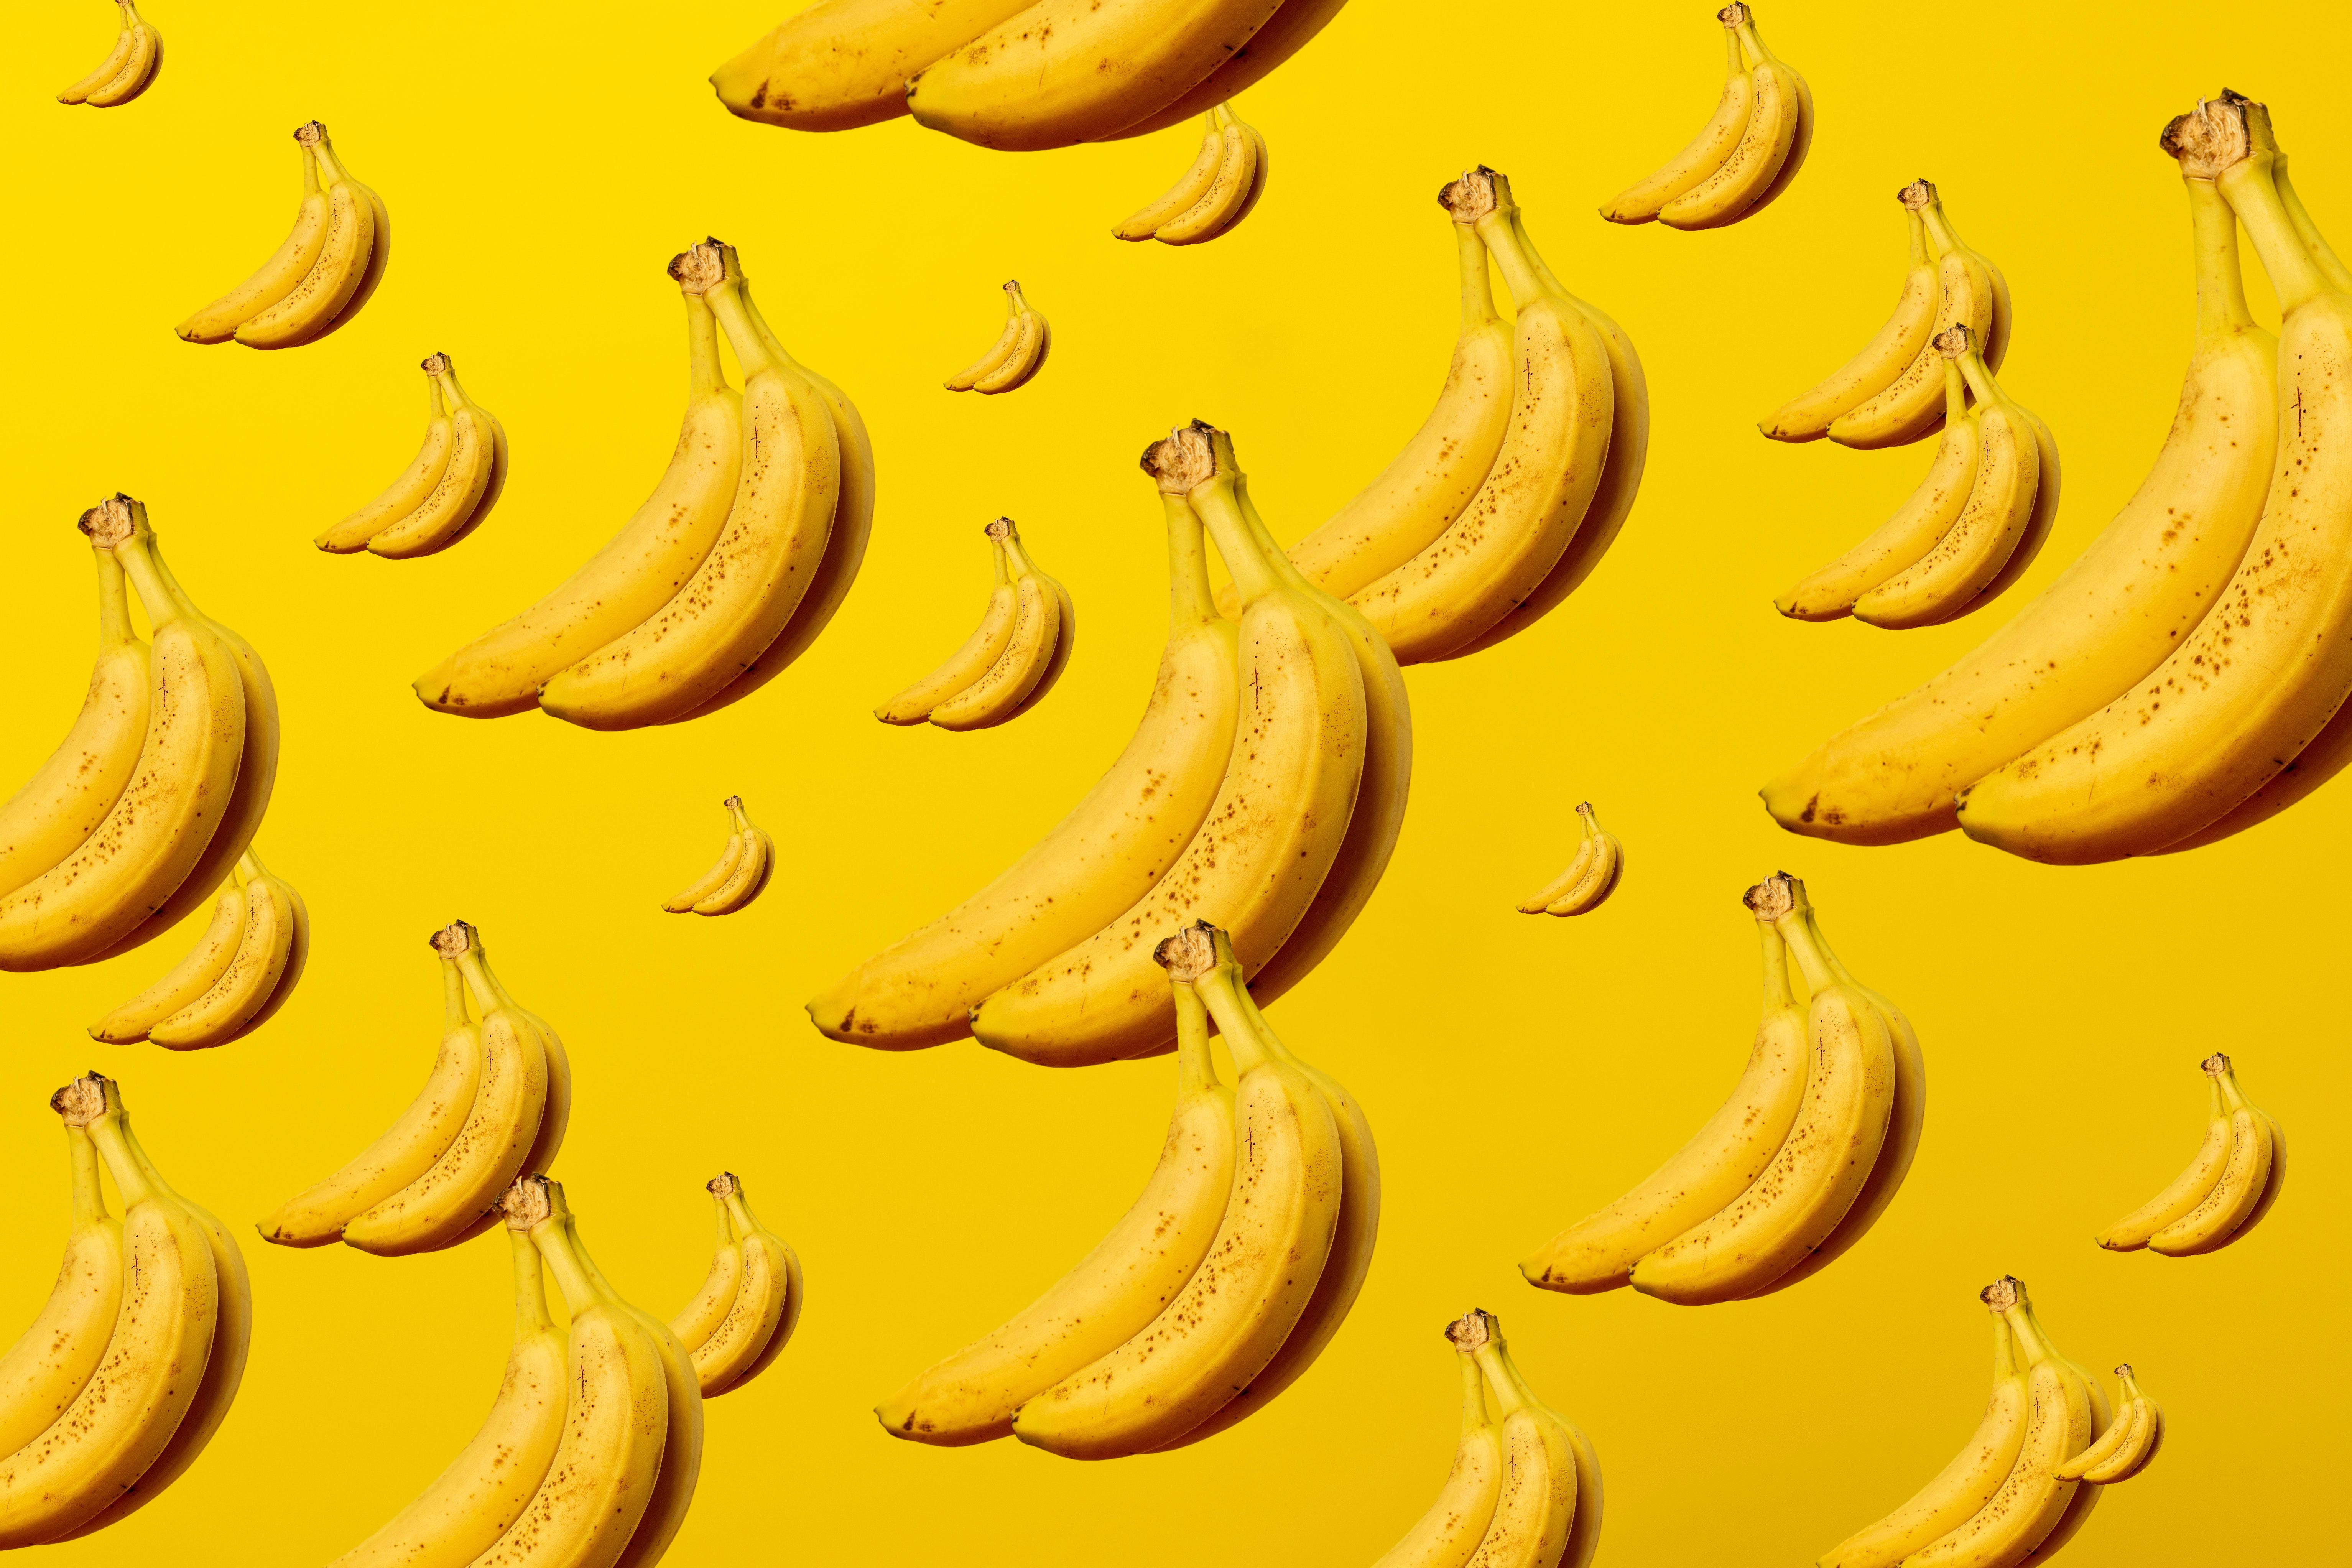banana: (870, 917, 1400, 1505), (485, 243, 875, 745), (1512, 868, 1942, 1323), (2, 490, 282, 962), (257, 913, 563, 1269), (189, 108, 397, 353), (2095, 1031, 2273, 1284), (885, 504, 1078, 738), (315, 345, 500, 583), (644, 782, 808, 950), (922, 255, 1066, 430)
